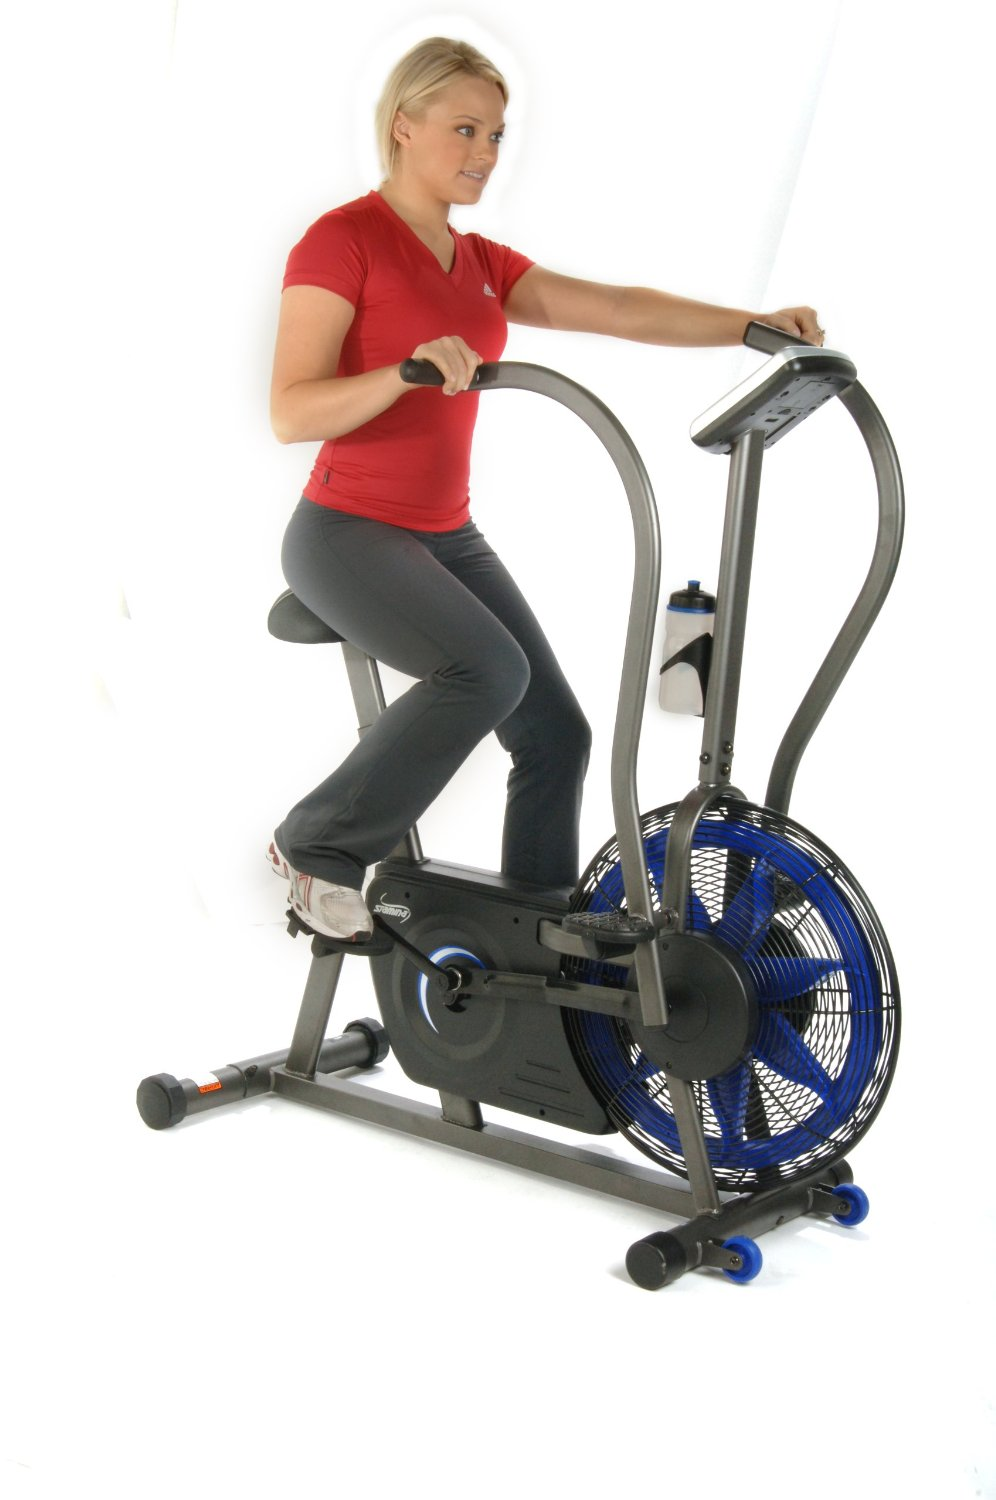gym_bike: (138, 306, 915, 1311)
